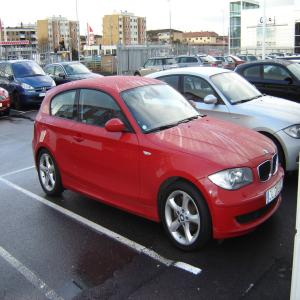Vehicle-registration-plate: (268, 179, 284, 206), (40, 93, 46, 98)
